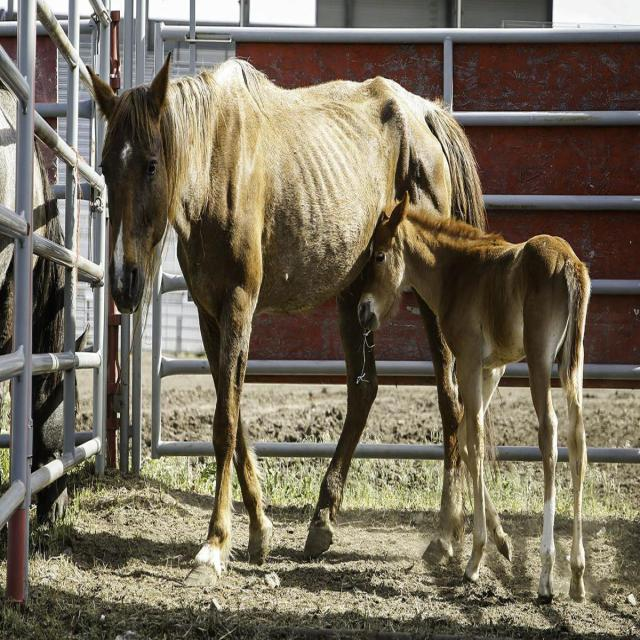Horse: (98, 64, 320, 574), (356, 181, 592, 593)
